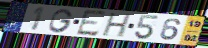1: (29, 6, 46, 32)
5: (133, 14, 160, 41)
6: (160, 18, 182, 41)
E: (75, 9, 108, 37)
G: (48, 8, 75, 34)
H: (101, 12, 133, 38)
